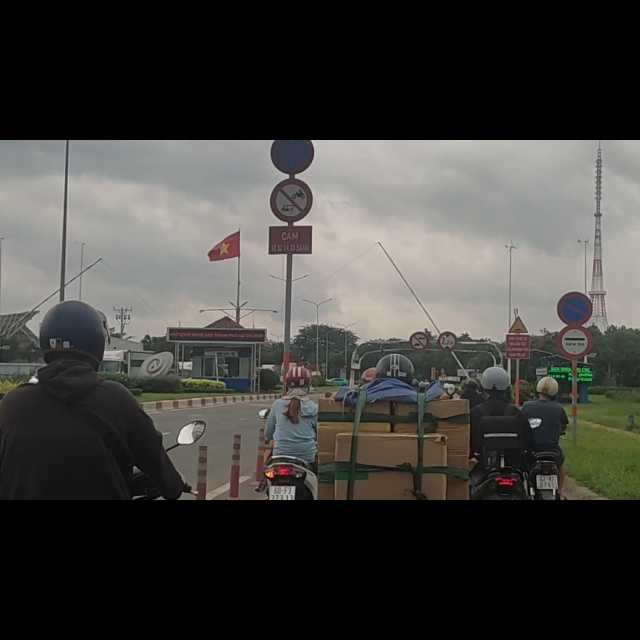bien_cam: (271, 66, 312, 147), (271, 1, 315, 60), (557, 331, 593, 390), (557, 269, 593, 327), (438, 339, 457, 375), (508, 312, 528, 344), (410, 341, 428, 373)
